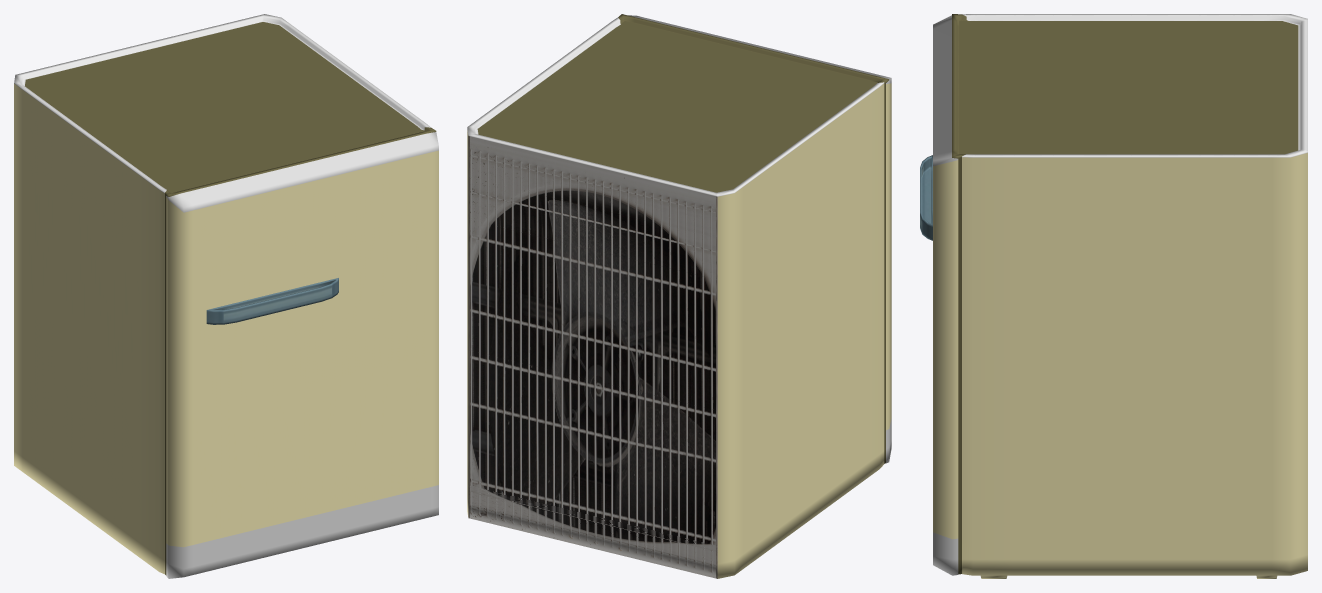
File: refrigerator_small.glb
3 views of the same model, side by side, from view 1: azimuth 30°, elevation 25°; view 2: azimuth 150°, elevation 25°; view 3: azimuth 270°, elevation 25° (orthographic). The views are drawn at different scales.
Parts seen in each view (by area): view 1: RefrigeratorSmall; view 2: RefrigeratorSmall; view 3: RefrigeratorSmall.
Part boxes in pixels (x1,y1,x2,y2): RefrigeratorSmall: [14, 14, 438, 578]; RefrigeratorSmall: [467, 14, 891, 578]; RefrigeratorSmall: [920, 14, 1307, 578].
Bounding box in the file's own units: 0.8183 × 1.15 × 0.9393.
5 materials, 2 textured.
